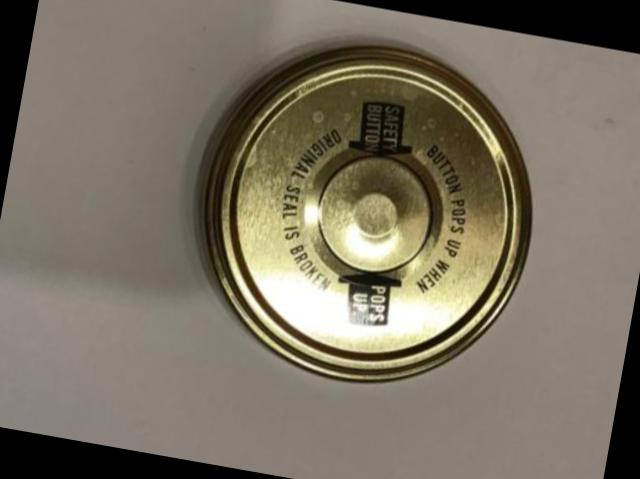metal: (203, 48, 531, 383)
